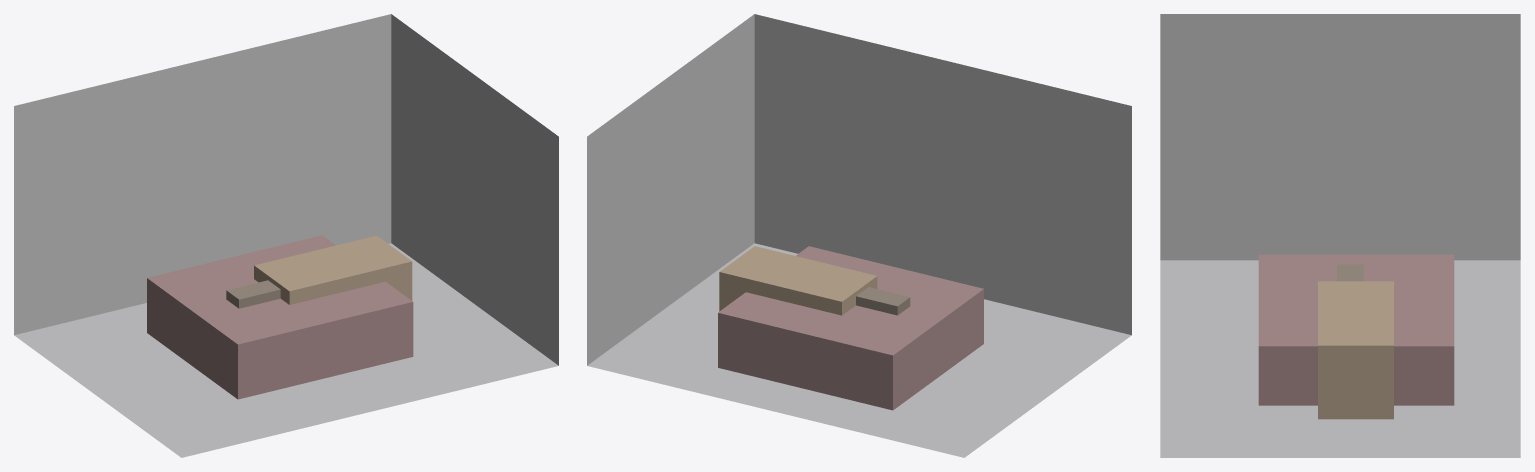
File: optimised_layout.glb
The picture shows the model from 3 angles, left to right: view 1: azimuth 30°, elevation 25°; view 2: azimuth 150°, elevation 25°; view 3: azimuth 270°, elevation 25°; orthographic projection. The views are drawn at different scales.
Visible parts, largest first — view 1: room, bed, desk, suitcase; view 2: room, bed, desk, suitcase; view 3: room, bed, desk, suitcase.
Boxes of the visible parts, box(x1,y1,x2,y2) form: room: box(14, 14, 558, 457); bed: box(147, 235, 413, 399); desk: box(254, 235, 412, 304); suitcase: box(226, 280, 280, 308); room: box(587, 14, 1131, 457); bed: box(718, 246, 983, 410); desk: box(719, 246, 877, 315); suitcase: box(856, 287, 910, 315); room: box(1160, 14, 1520, 457); bed: box(1258, 254, 1454, 405); desk: box(1318, 281, 1393, 419); suitcase: box(1337, 264, 1363, 281).
Size of the model in its own units: 4.31 by 2.5 by 3.31.
